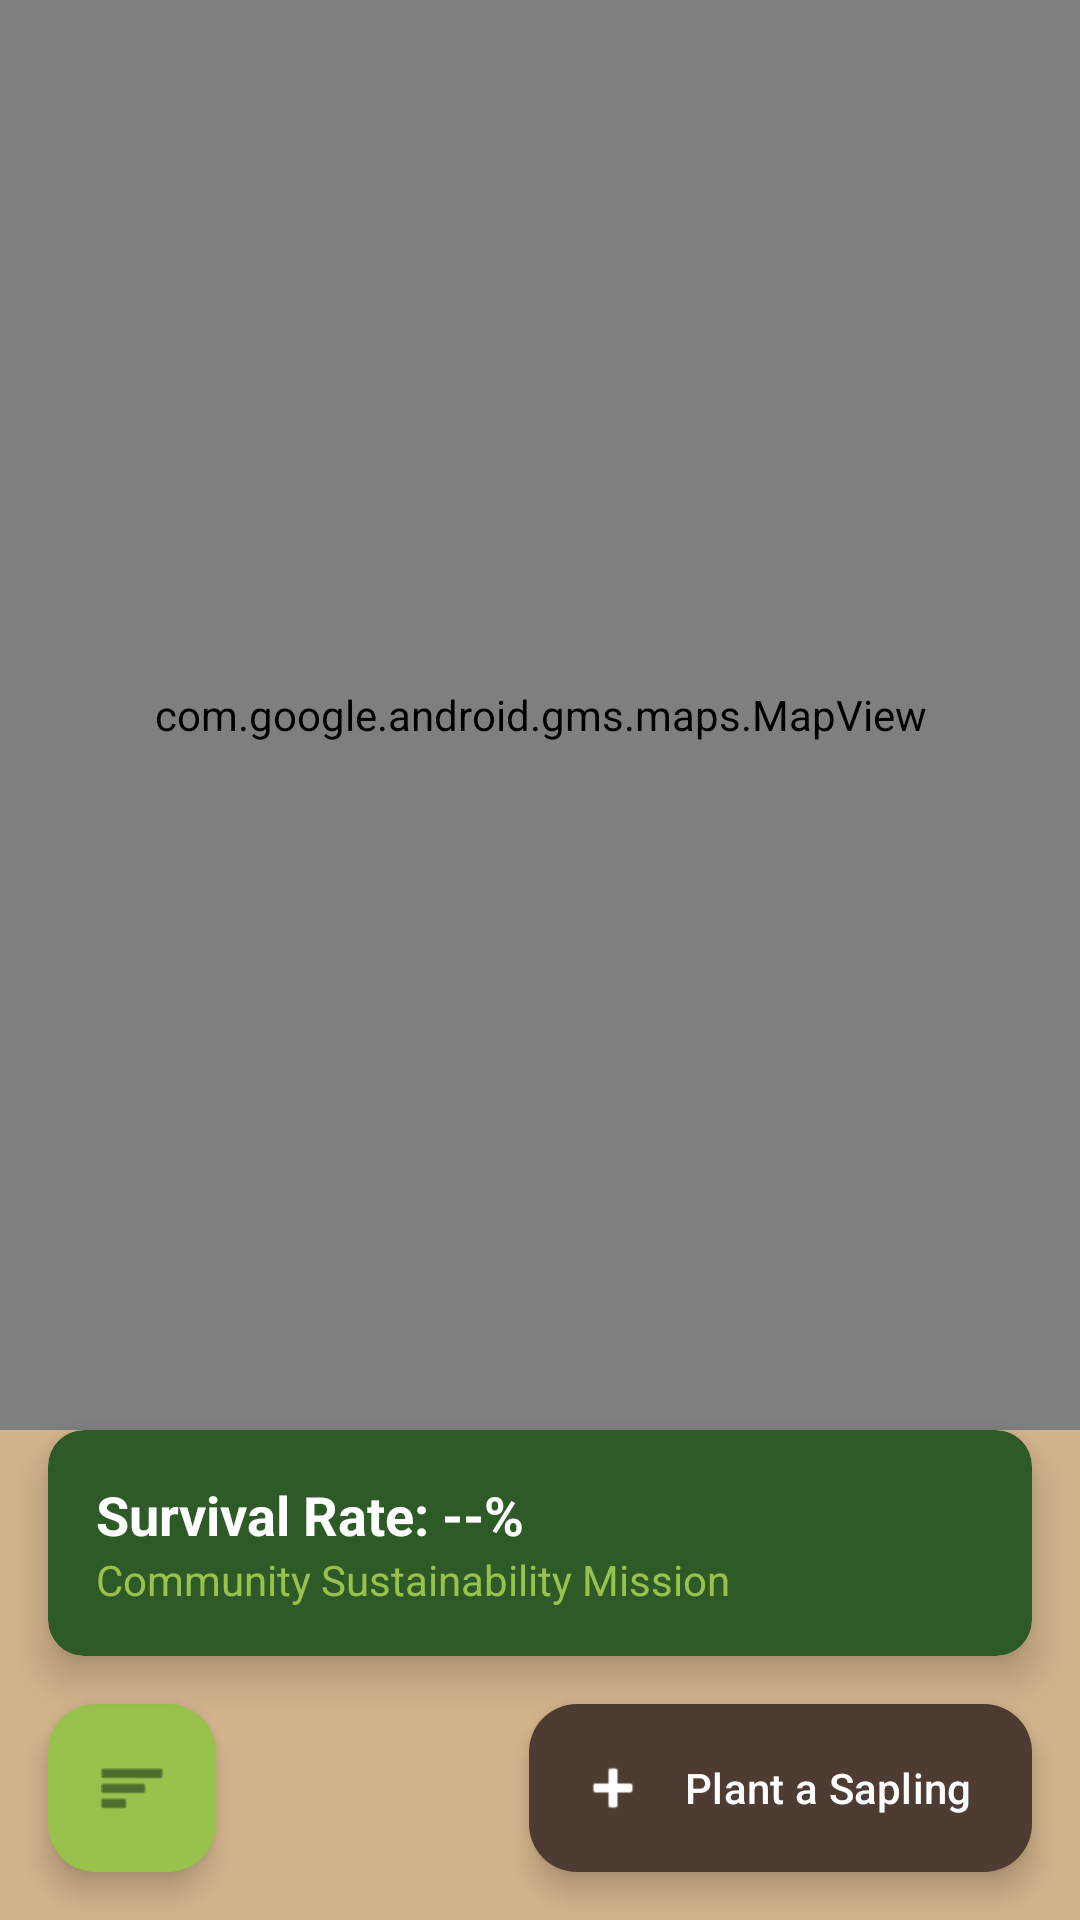

Icon click points for this 1080 × 1920 phone screenshot, format point (x, y):
sort by size: point (132, 1788)
